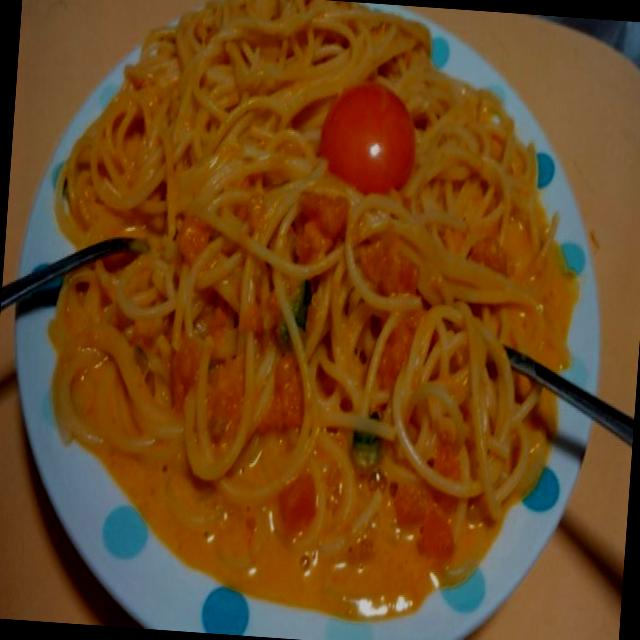Pasta: (57, 0, 558, 524)
